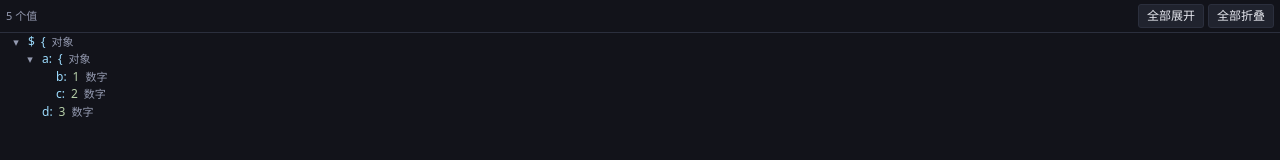
Test: JsonTree › 折叠某个子项后其子孙消失，并显示含元素个数的摘要
Click the button named "折叠 $.a" at (30, 59), box [24,51,36,67]
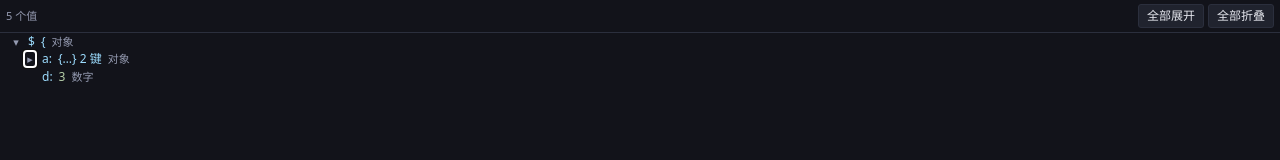
Expected: the number of list items is 3, [10,33,73,50]; [24,50,130,67]; [42,68,94,85]
Expected: the text "{…} 2 键" is shown, [58,50,102,68]
Expected: the button named "展开 $.a" is collapsed, [24,51,36,67]
